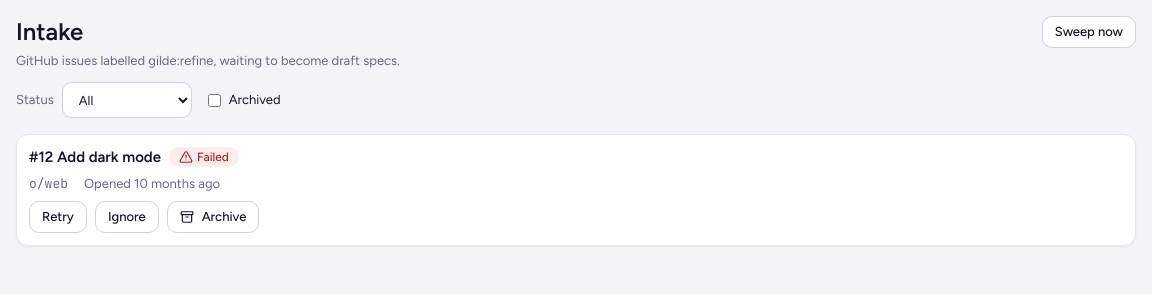
it: IntakeView › explains a 403 on retry
What coordinates should you click on to do the following:
click the button "Retry"
I would click on:
 (58, 217)
Its box is 29,201 -> 87,233.
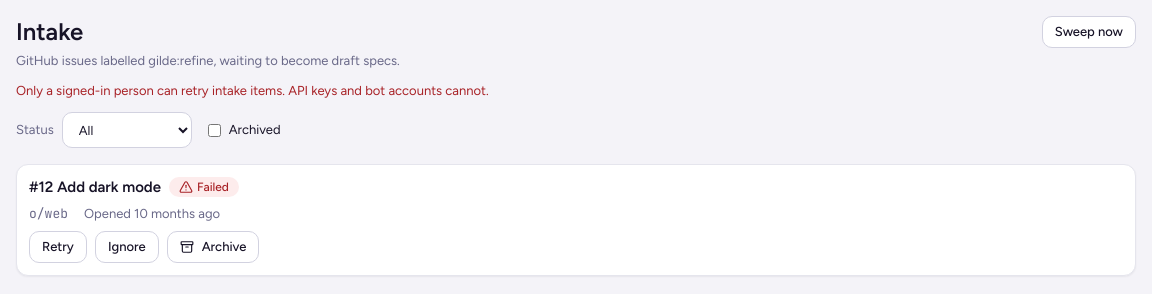
expect the message shows "Only a signed-in person can retry intake items": met, box 16,83 -> 489,98
